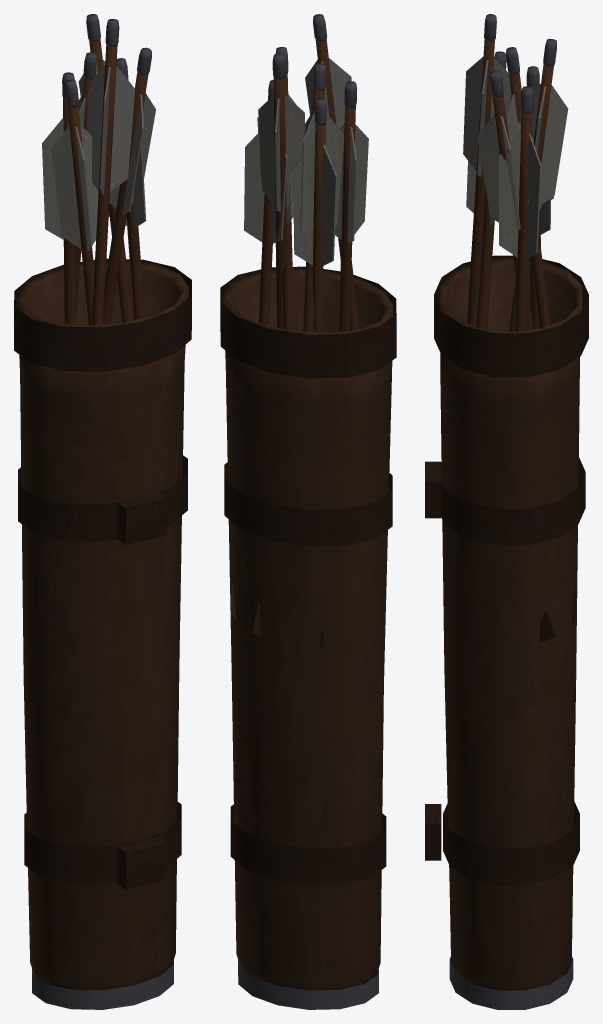
File: quiver.glb
3 views of the same model, side by side, from view 1: azimuth 30°, elevation 25°; view 2: azimuth 150°, elevation 25°; view 3: azimuth 270°, elevation 25° (orthographic).
Visible parts, largest first — view 1: quiver; view 2: quiver; view 3: quiver.
Boxes of the visible parts, box(x1,y1,x2,y2) form: quiver: box(14, 14, 191, 1009); quiver: box(220, 14, 396, 1009); quiver: box(425, 14, 588, 1009).
Bounding box in the file's own units: 0.1365 × 0.7877 × 0.1214.
Materials: 1 (1 with a texture image).
